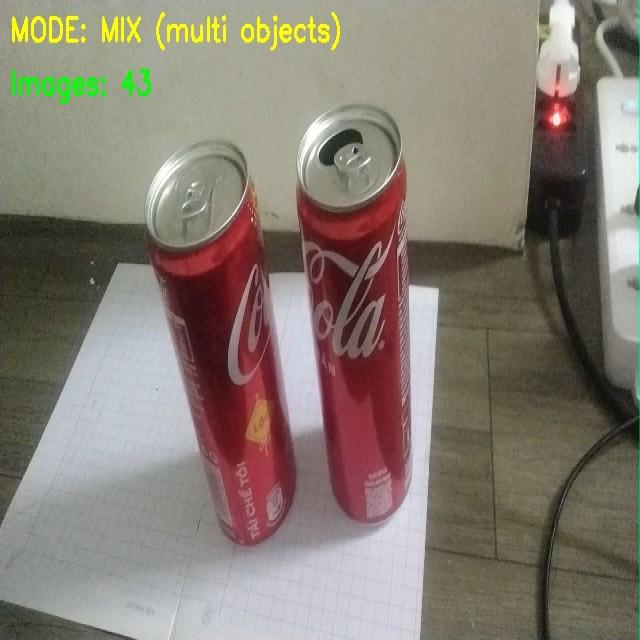Coca: (127, 131, 302, 583)
Coca_open: (289, 93, 449, 536)
